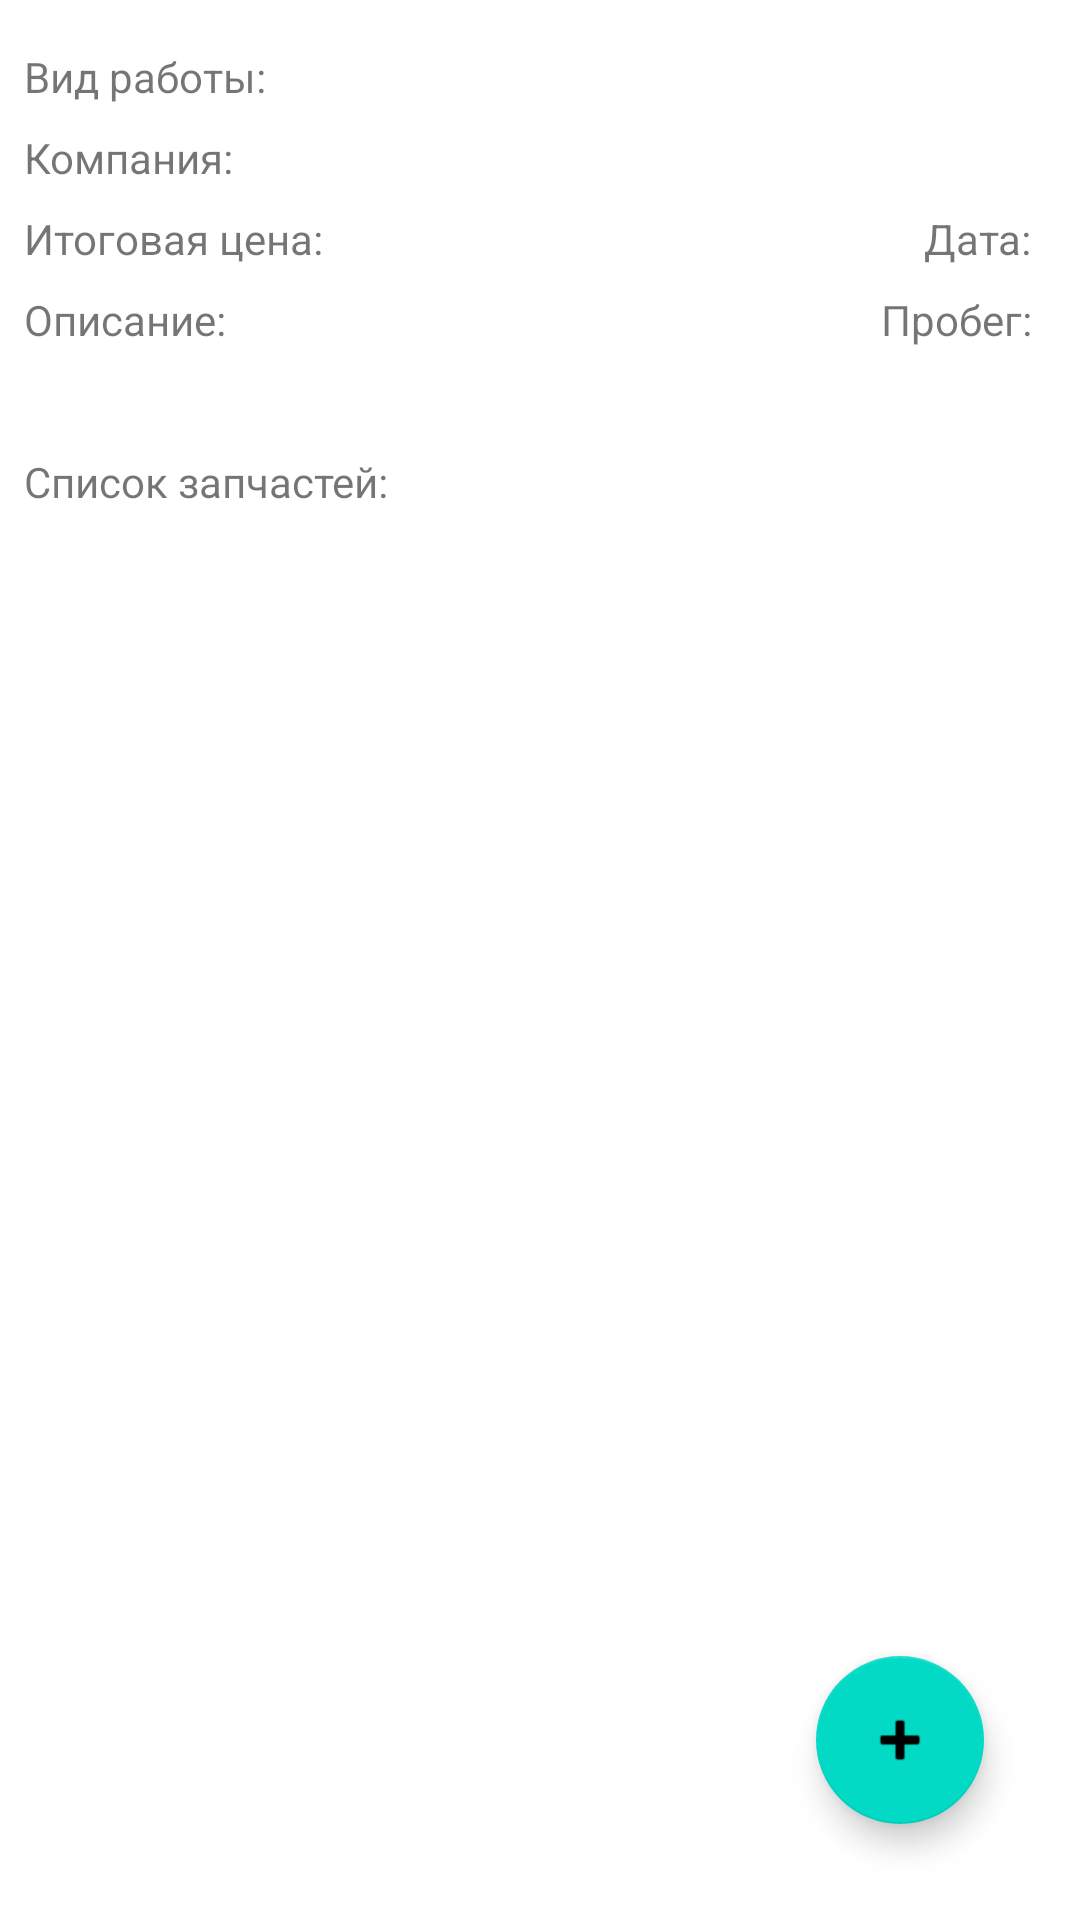

Where to tap for icons on this 1080x1920 app screen, as (x=x, y=y):
add: (x=900, y=1740)
